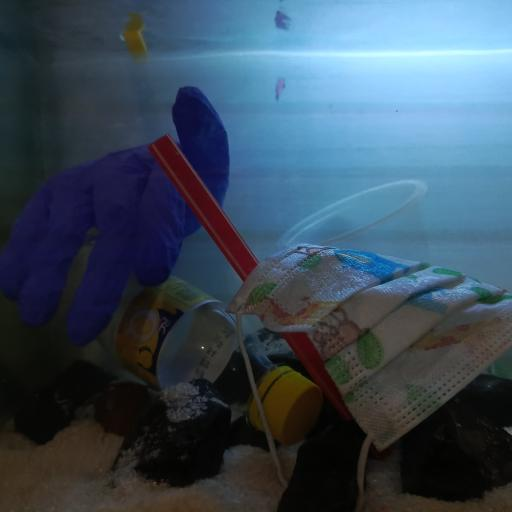bottle_cap: (256, 368, 322, 447)
glove: (0, 85, 231, 348)
mask: (228, 244, 512, 461)
plastic_bottle: (50, 236, 322, 448)
plastic_cup: (277, 179, 427, 266)
plastic_straw: (150, 133, 360, 424)
